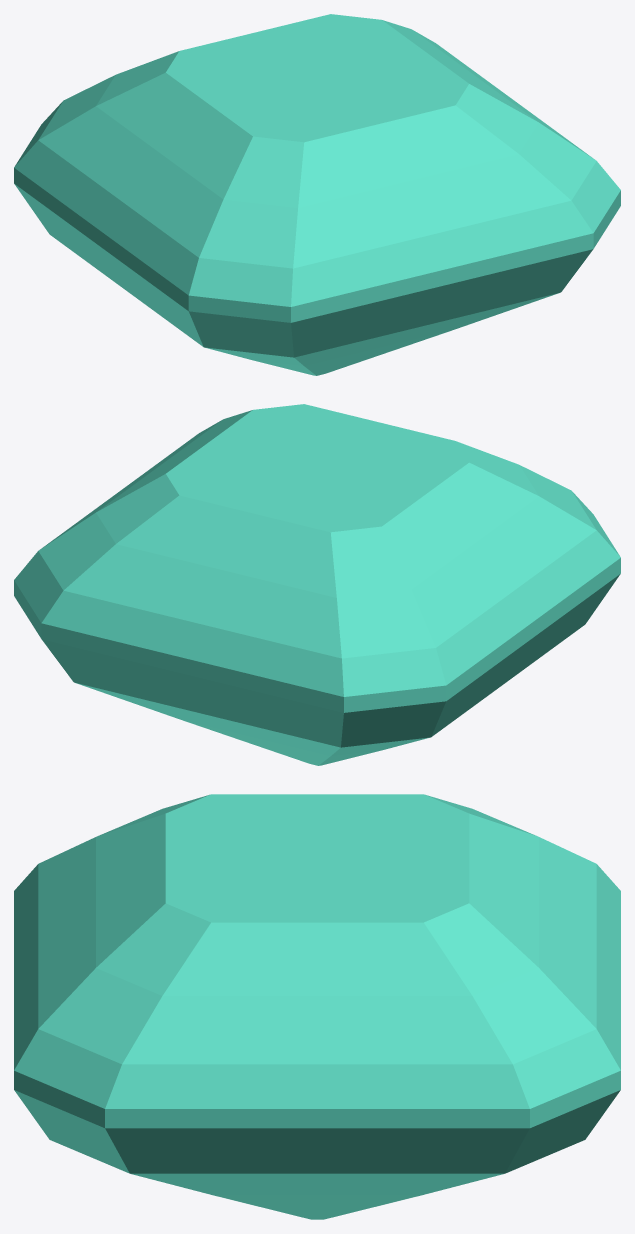
File: asscher.glb
The picture shows the model from 3 angles, top to bottom: view 1: azimuth 30°, elevation 25°; view 2: azimuth 150°, elevation 25°; view 3: azimuth 270°, elevation 25°; orthographic projection. The views are drawn at different scales.
Visible parts, largest first — view 1: Prism_asscher; view 2: Prism_asscher; view 3: Prism_asscher.
Boxes of the visible parts, bbox=[...] form: Prism_asscher: bbox=[14, 14, 620, 375]; Prism_asscher: bbox=[14, 404, 620, 765]; Prism_asscher: bbox=[14, 794, 620, 1219].
Size of the model in its own units: 2 by 1.3 by 2.
